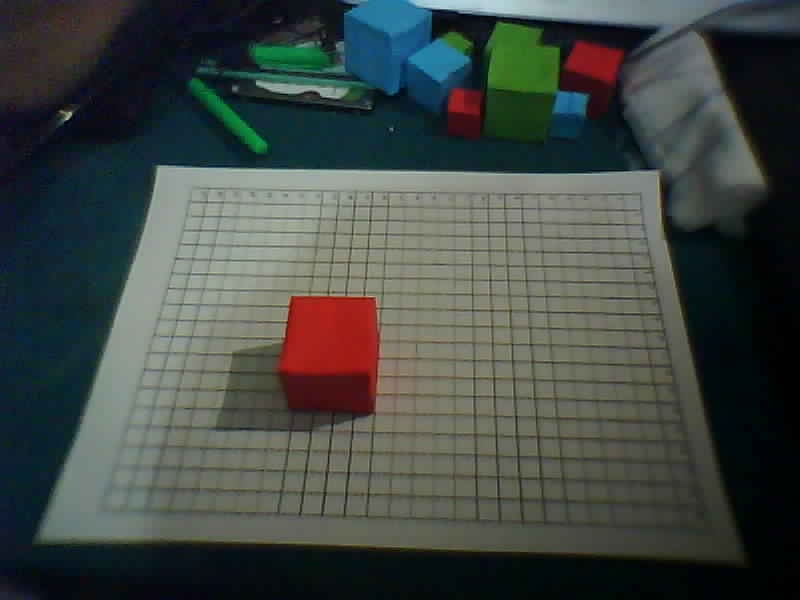red(4x4x4): (274, 276, 388, 432)
